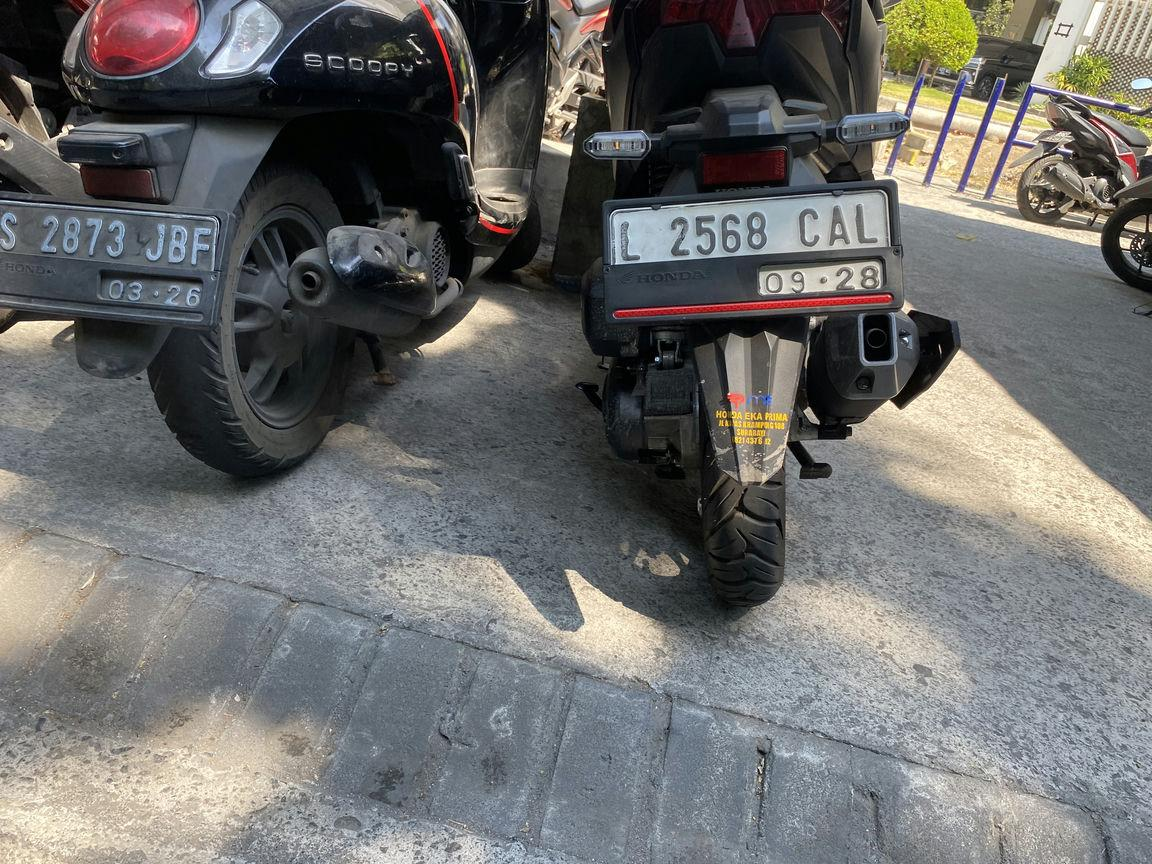plat: (605, 182, 902, 322), (0, 200, 224, 326)
